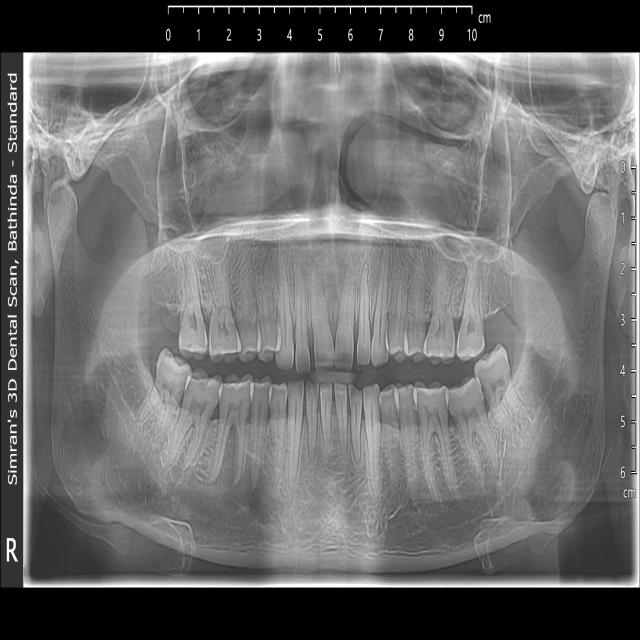Mandibular Canal: (427, 355, 571, 543), (100, 363, 261, 525)
maxillary sinus: (396, 78, 511, 262), (158, 96, 273, 257)
